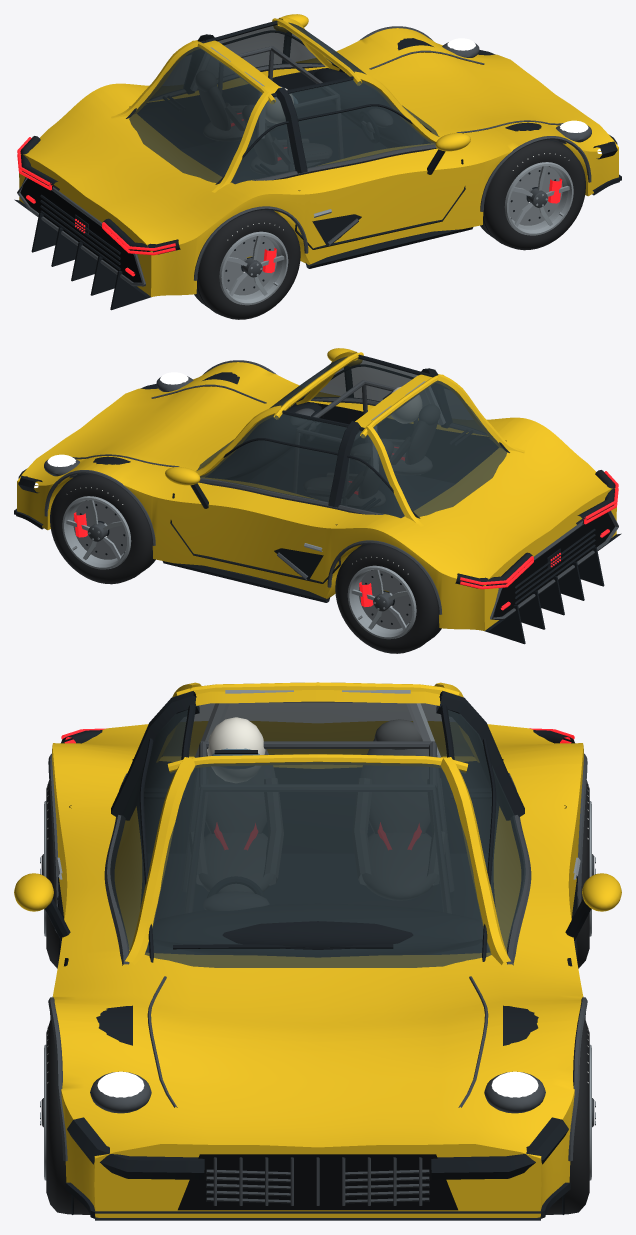
The model's file is fleet-6.glb.
3 views of the same model, one above another, from view 1: azimuth 30°, elevation 25°; view 2: azimuth 150°, elevation 25°; view 3: azimuth 270°, elevation 25° (orthographic). The views are drawn at different scales.
Visible parts, largest first — view 1: GT_body, GT_glazing, GT_tyre, GT_cockpit_tub, GT_cockpit_floor, GT_roof_pillar.001, GT_alloy_disc, GT_diffuser_fin, GT_rear_fascia, GT_dashboard, GT_alloy_bead, GT_arch_edge (+28 smaller); view 2: GT_body, GT_glazing, GT_tyre, GT_cockpit_tub, GT_cockpit_floor, GT_roof_pillar.001, GT_alloy_disc, GT_diffuser_fin, GT_dashboard, GT_rear_fascia, GT_alloy_bead, GT_arch_edge (+29 smaller); view 3: GT_body, GT_glazing, GT_dashboard, GT_radiator, GT_cockpit_tub, GT_cockpit_floor, GT_tyre, GT_roof_pillar.001, GT_bucket_base, GT_bucket_back, GT_rollcage, GT_headlight (+23 smaller).
Boxes of the visible parts, bbox=[...] form: GT_body: bbox=[19, 28, 618, 296]; GT_glazing: bbox=[129, 22, 439, 184]; GT_tyre: bbox=[195, 139, 585, 319]; GT_cockpit_tub: bbox=[129, 68, 430, 149]; GT_cockpit_floor: bbox=[181, 114, 387, 183]; GT_roof_pillar.001: bbox=[111, 17, 440, 192]; GT_alloy_disc: bbox=[223, 166, 562, 295]; GT_diffuser_fin: bbox=[31, 213, 151, 310]; GT_rear_fascia: bbox=[20, 178, 141, 282]; GT_dashboard: bbox=[314, 68, 423, 145]; GT_alloy_bead: bbox=[219, 162, 573, 305]; GT_arch_edge: bbox=[194, 26, 591, 280]; GT_body: bbox=[17, 362, 616, 630]; GT_glazing: bbox=[196, 356, 506, 518]; GT_tyre: bbox=[50, 473, 440, 653]; GT_cockpit_tub: bbox=[205, 402, 506, 483]; GT_cockpit_floor: bbox=[248, 448, 454, 517]; GT_roof_pillar.001: bbox=[195, 351, 524, 526]; GT_alloy_disc: bbox=[73, 500, 412, 629]; GT_diffuser_fin: bbox=[484, 547, 604, 644]; GT_dashboard: bbox=[212, 402, 321, 479]; GT_rear_fascia: bbox=[493, 512, 614, 617]; GT_alloy_bead: bbox=[62, 496, 416, 639]; GT_arch_edge: bbox=[44, 360, 441, 614]; GT_body: bbox=[52, 721, 583, 1217]; GT_glazing: bbox=[110, 702, 525, 967]; GT_dashboard: bbox=[153, 903, 482, 957]; GT_radiator: bbox=[178, 1154, 457, 1210]; GT_cockpit_tub: bbox=[132, 759, 503, 903]; GT_cockpit_floor: bbox=[142, 854, 493, 954]; GT_tyre: bbox=[46, 780, 589, 1214]; GT_roof_pillar.001: bbox=[125, 682, 510, 964]; GT_bucket_base: bbox=[199, 832, 436, 900]; GT_bucket_back: bbox=[205, 738, 430, 833]; GT_rollcage: bbox=[181, 741, 454, 913]; GT_headlight: bbox=[67, 1117, 568, 1179].
Bounding box in the file's own units: 0.3219 × 0.1171 × 0.197.
